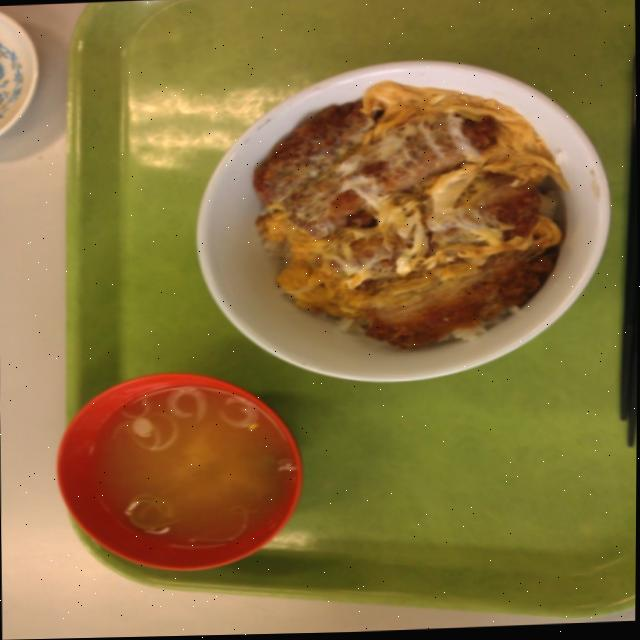汤锅炖物: (49, 363, 303, 581)
